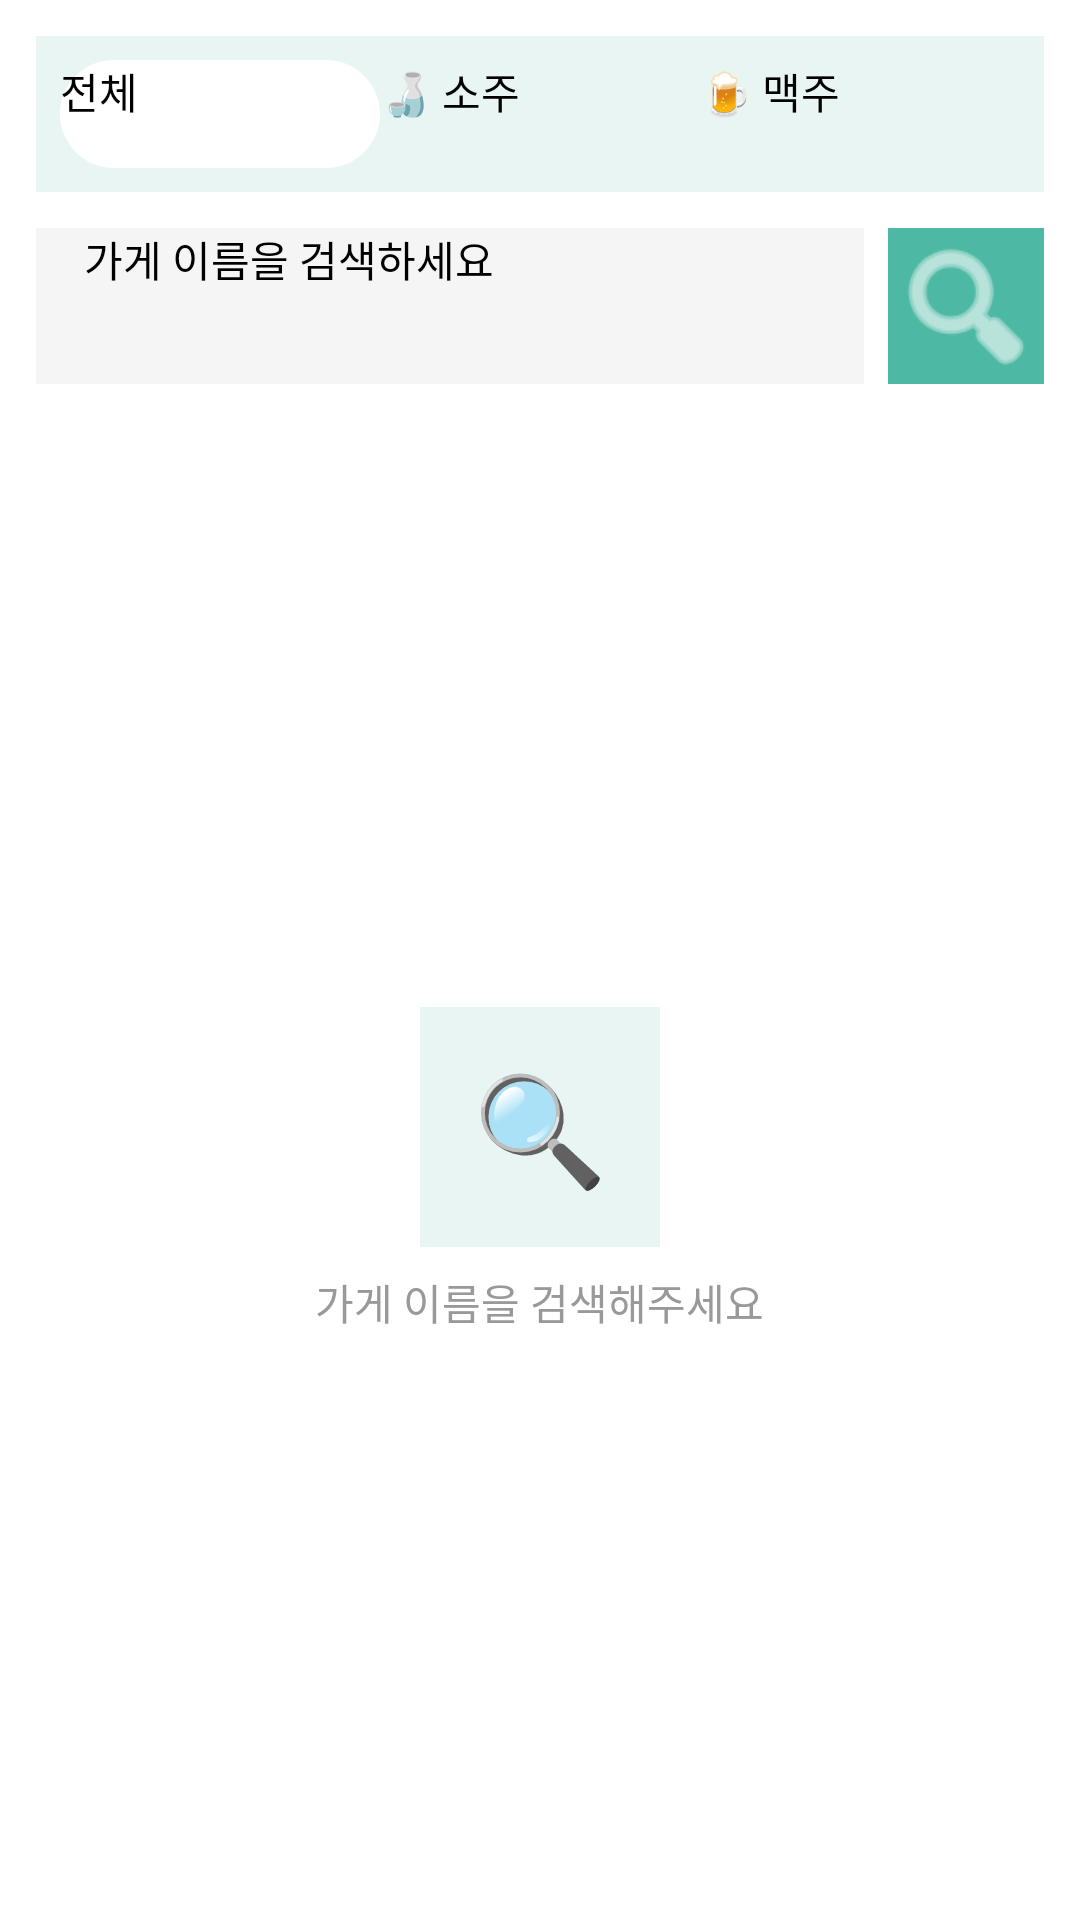

Icon click points for this 1080w x 1920h phone screenshot, format [x,y]:
search: [966,306]
